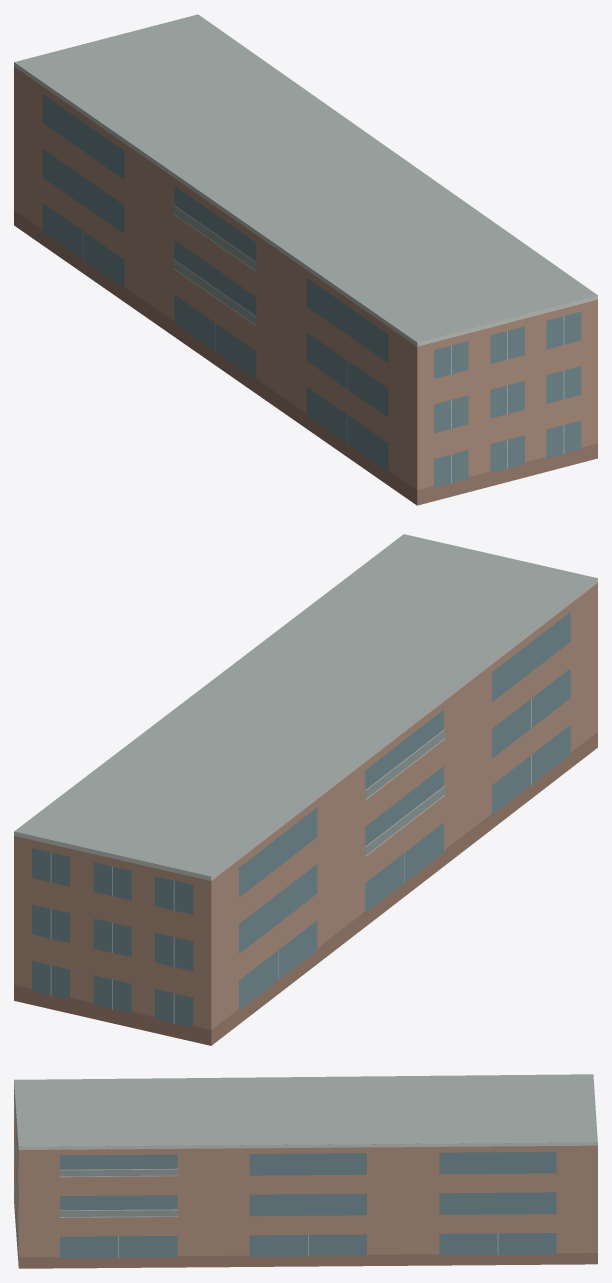
File: survey-upis-32762316.glb
The picture shows the model from 3 angles, top to bottom: view 1: azimuth 30°, elevation 25°; view 2: azimuth 150°, elevation 25°; view 3: azimuth 270°, elevation 25°; orthographic projection. The views are drawn at different scales.
Parts seen in each view (by area): view 1: survey-upis-32762316.tmp; view 2: survey-upis-32762316.tmp; view 3: survey-upis-32762316.tmp.
Part boxes in pixels (x1,y1,x2,y2): survey-upis-32762316.tmp: (14,14,597,505); survey-upis-32762316.tmp: (14,534,597,1045); survey-upis-32762316.tmp: (14,1074,597,1268).
Size of the model in its own units: 11.69 by 9.15 by 39.73.
